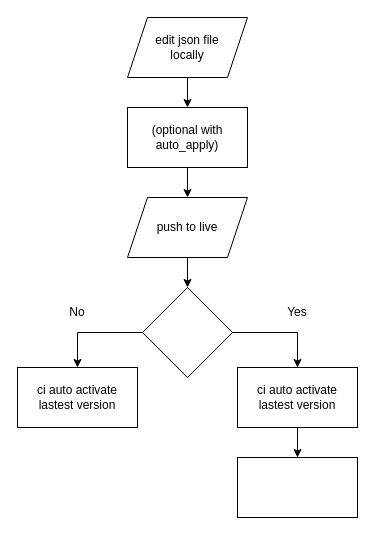
Image size: 375x535. Some labels were removed from this diagram. The shapes that lost their labels are listed below. From the top down, each one's box as (x1, y1, x2, y2) in pixels, then its label:
(142, 286, 232, 378): got auto_apply ?
(236, 456, 358, 518): ci auto apply for target tenant
